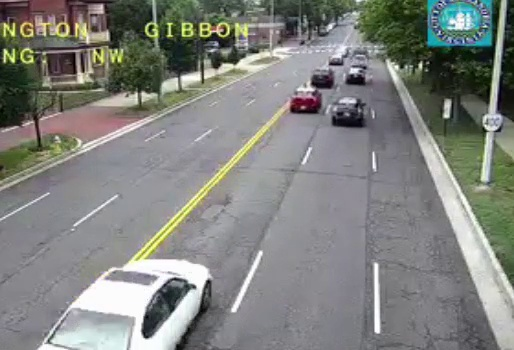car: (38, 258, 211, 350), (331, 98, 363, 123), (290, 89, 321, 111), (310, 68, 334, 86), (346, 68, 364, 83)
